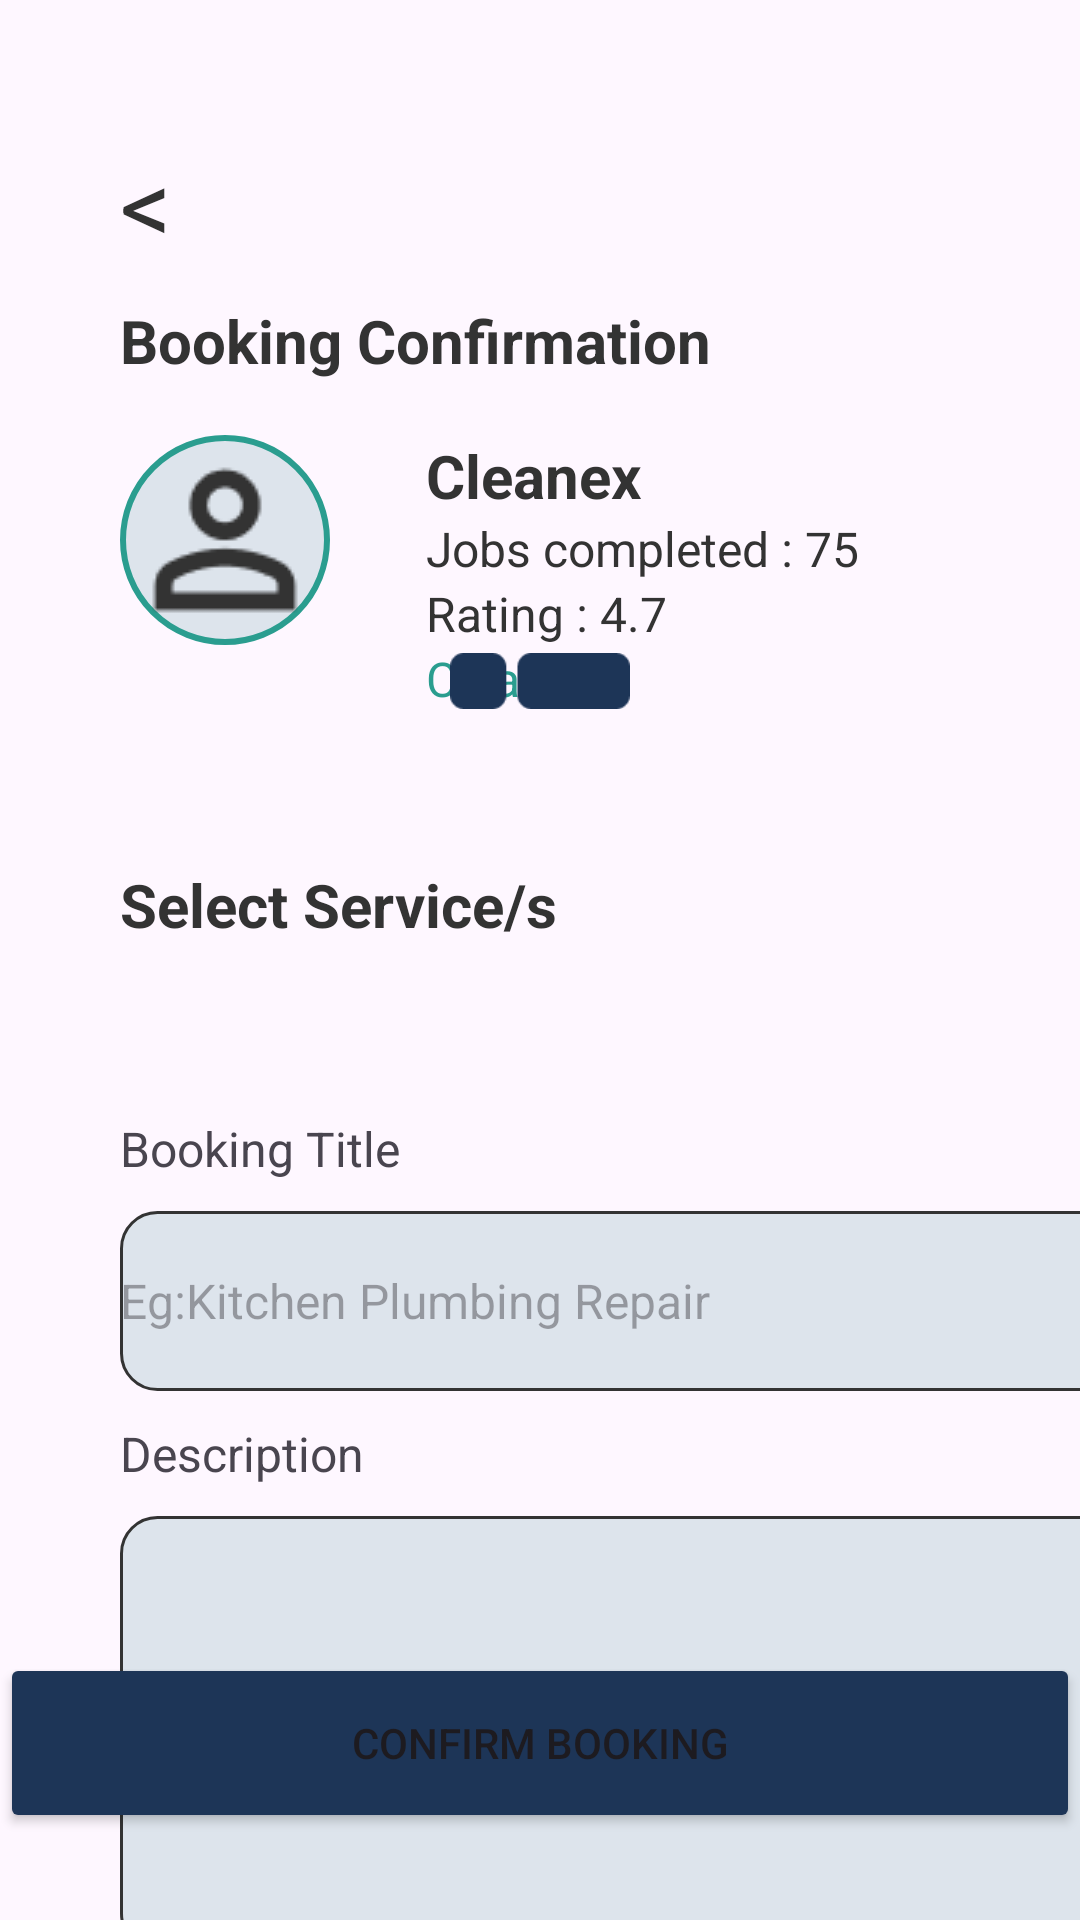

Screen size 1080×1920. Icon name, then its center in pixels as (x=x, y=y):
person1: (x=225, y=540)
